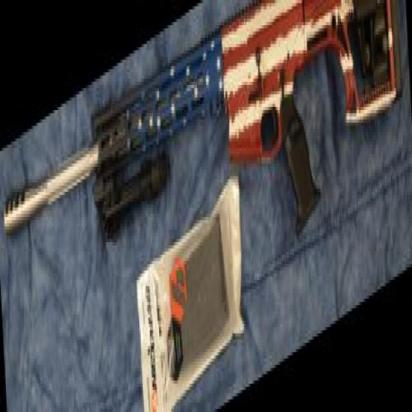Gun: (10, 0, 400, 359)
